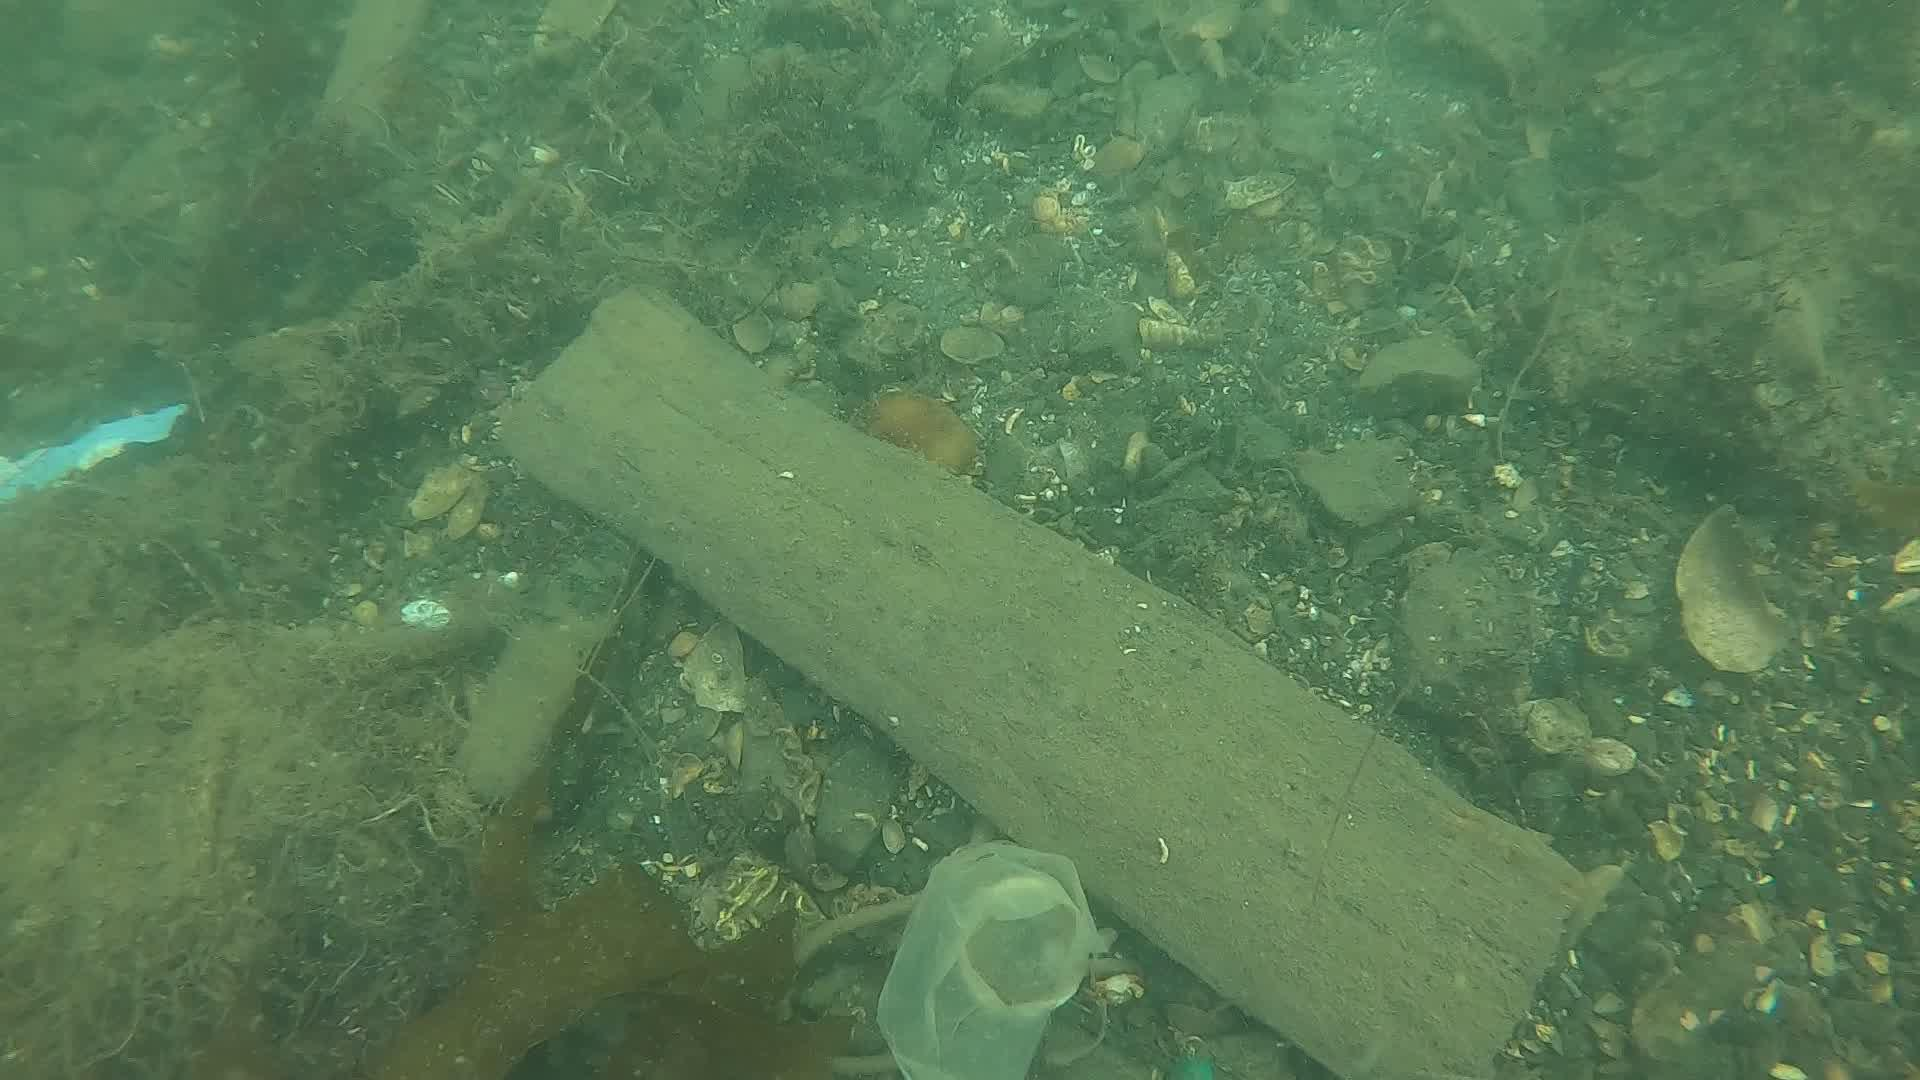wood: (495, 282, 1585, 1080)
